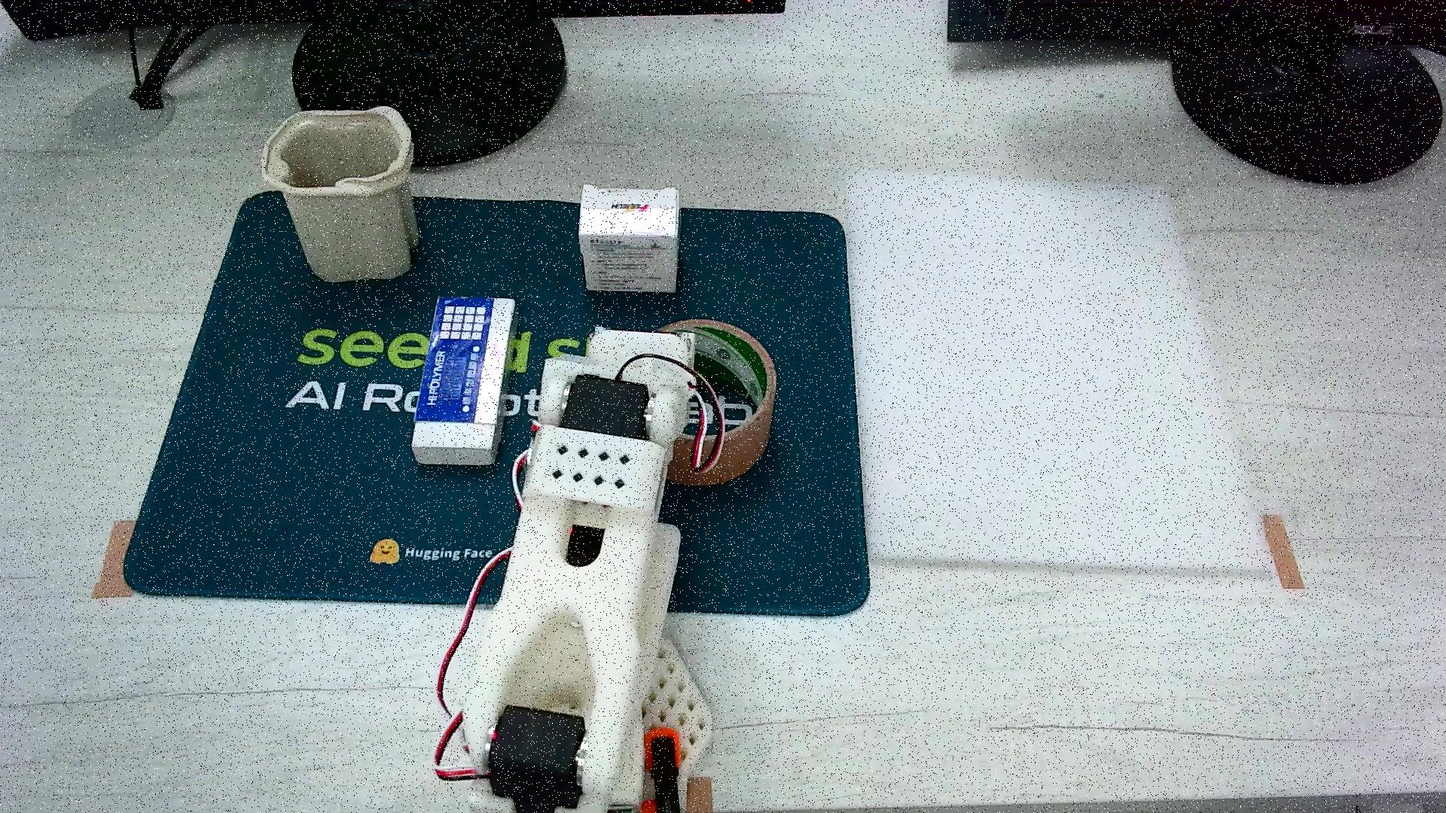eraser: (578, 184, 680, 291)
